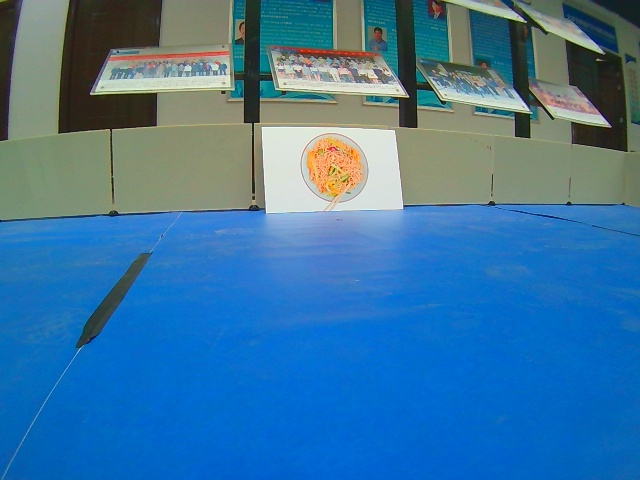food: (259, 126, 406, 213)
